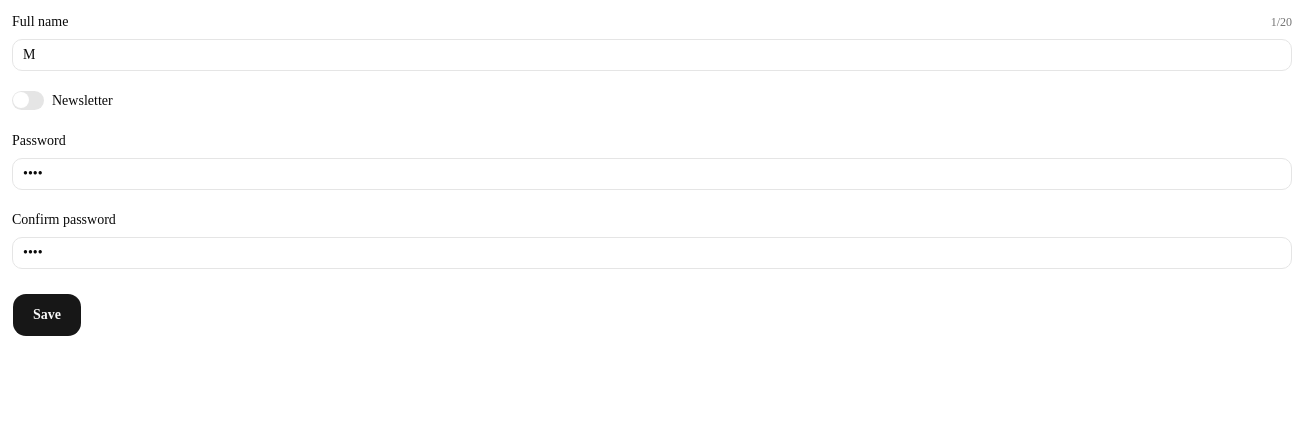
Test: SchemaForm › shows field and form errors from the server
The image size is (1304, 425).
Click the button "Save".
click(47, 315)  # box x1=12 y1=293 x2=82 y2=337
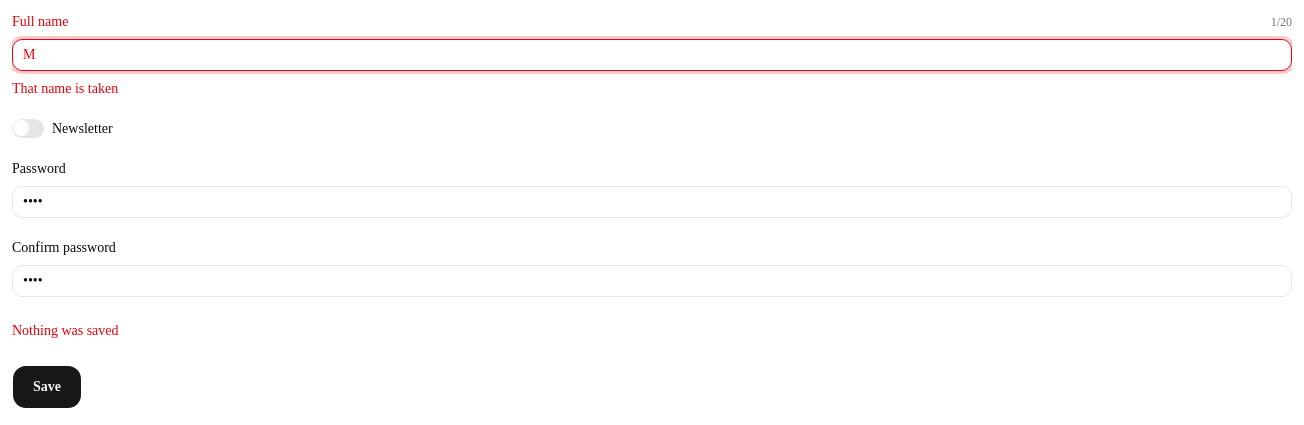
Expected: the text "That name is taken" is shown, x1=12 y1=81 x2=118 y2=96
Expected: the text "Nothing was saved" is shown, x1=12 y1=323 x2=118 y2=338
